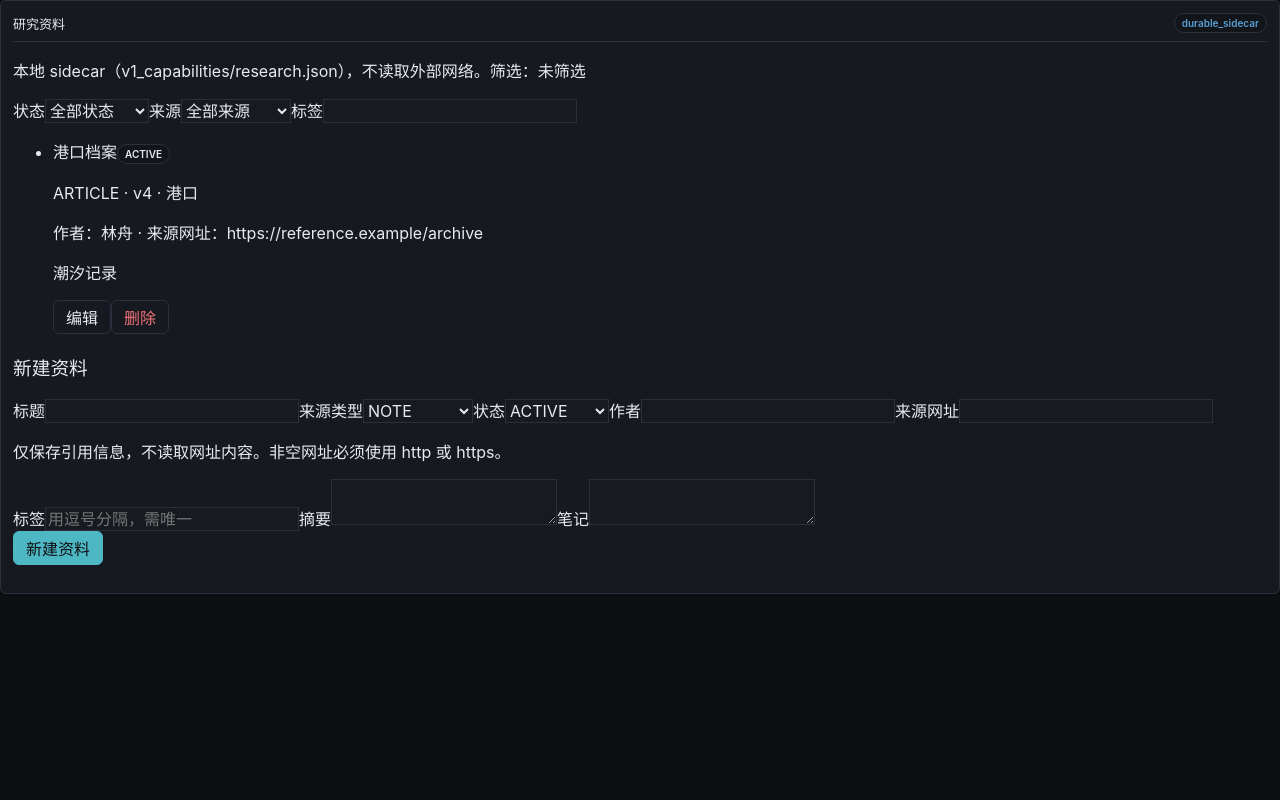
Test: research panel › fills every editable field and saves with the exact novel, record, version and payload
Click the button "编辑" at (82, 317), box [53,300,111,334]
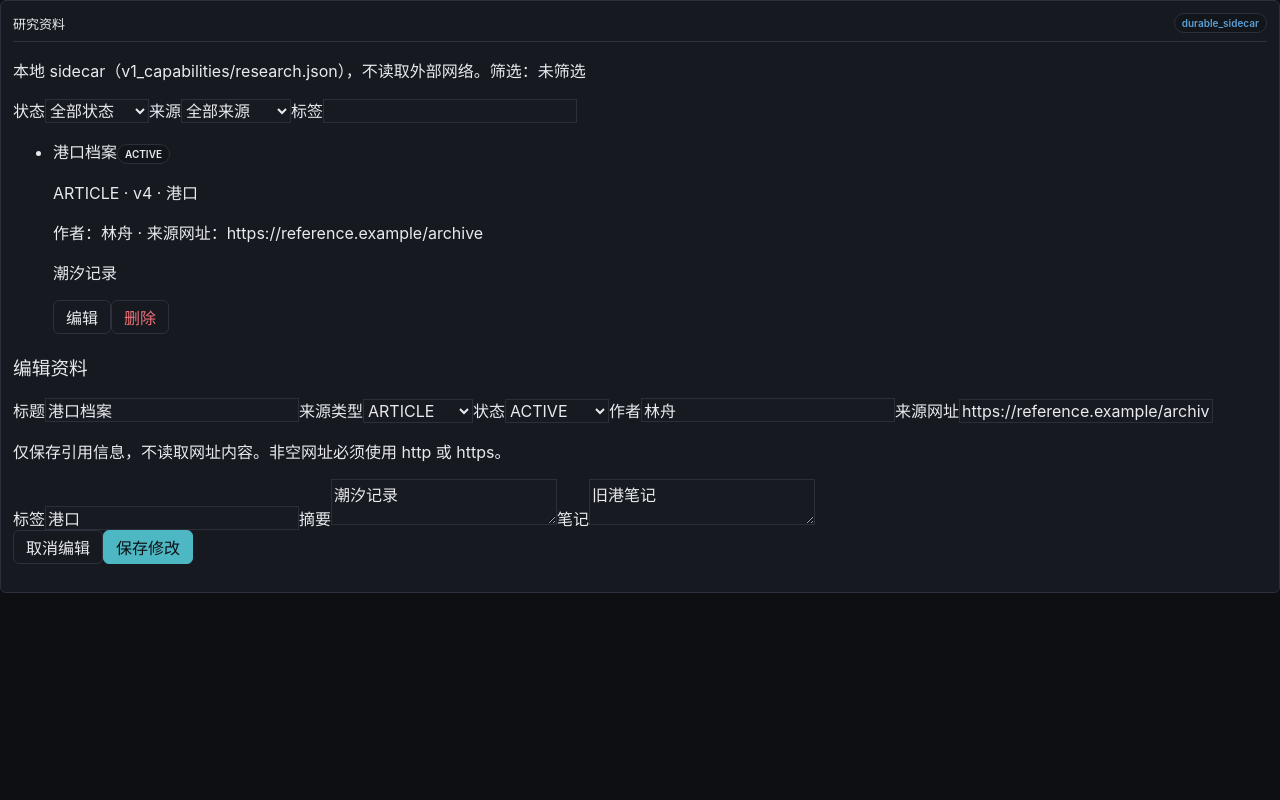
Expected: the text "港口档案" is shown, [53,142,117,162]
Expected: the text "https://reference.example/archive" is shown, [227,223,483,243]
Replace the text in the field labelled "标题" with "修订档案" at (172, 410), box [45,398,299,422]
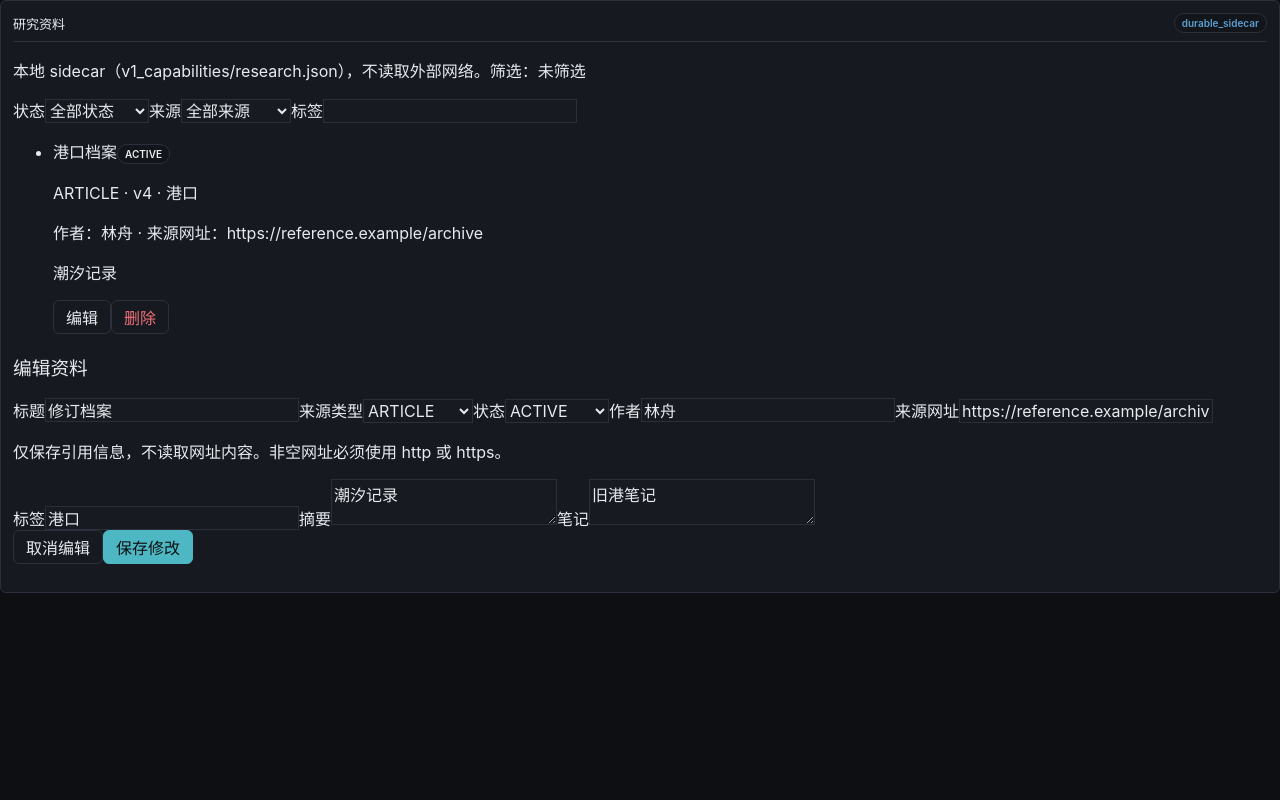
Replace the text in the field labelled "作者" with "新作者" at (768, 410), box [641,398,895,422]
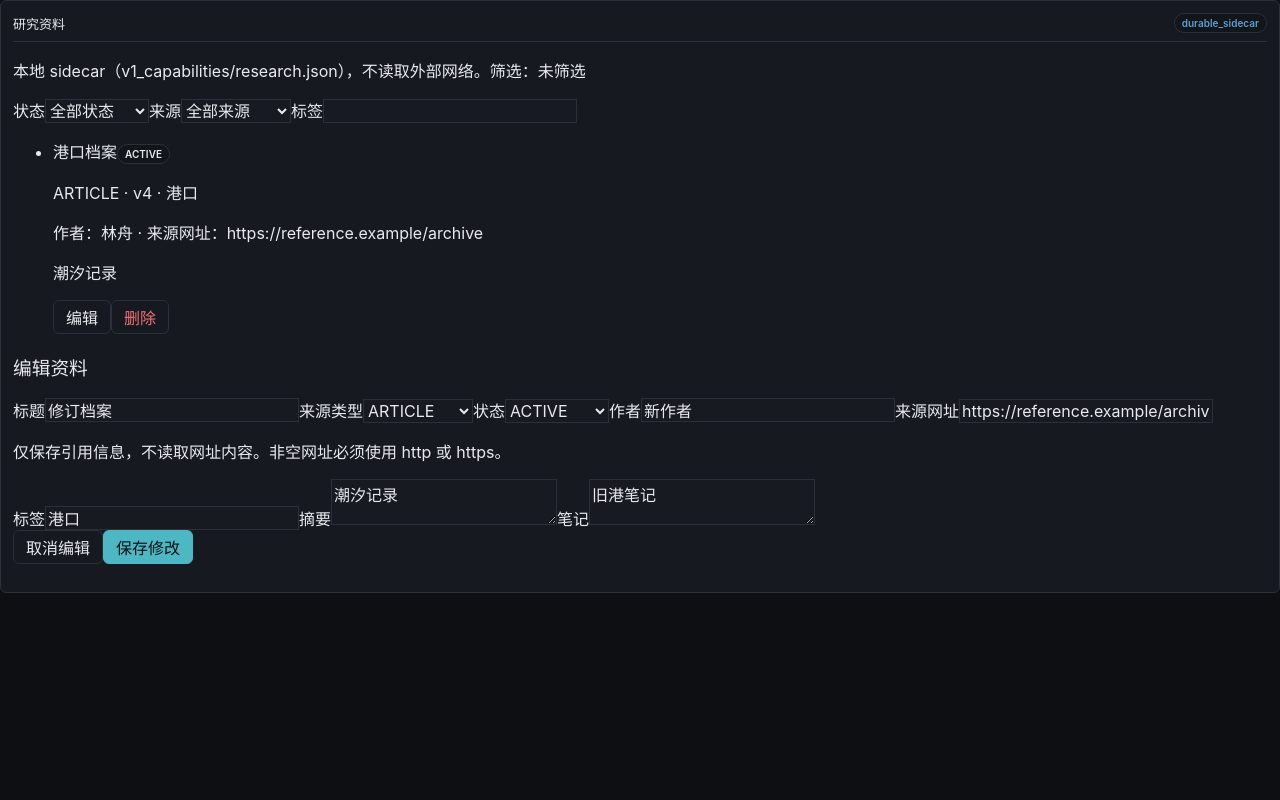
Replace the text in the field labelled "来源网址" with "http://source.example/revised" at (1086, 411), box [959,399,1213,423]
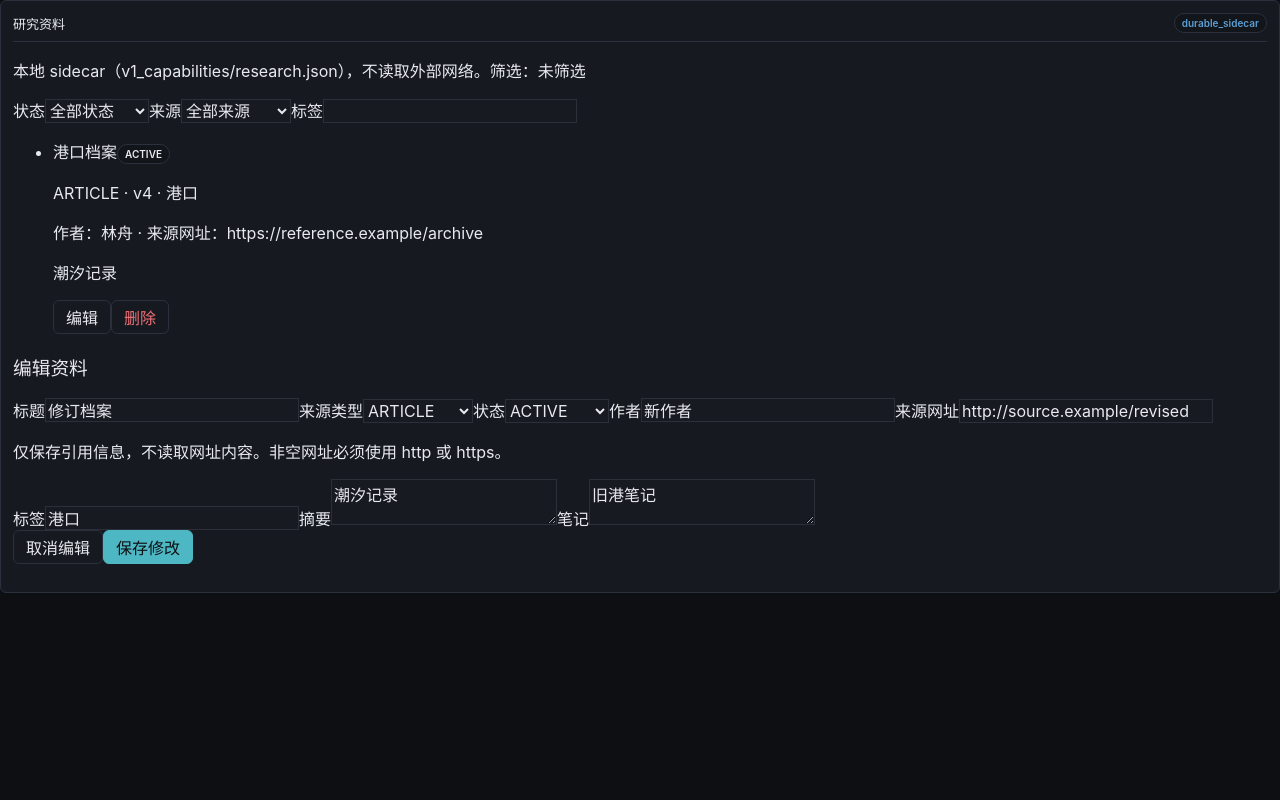
Click the button "保存修改" at (148, 547), box [103,530,193,564]
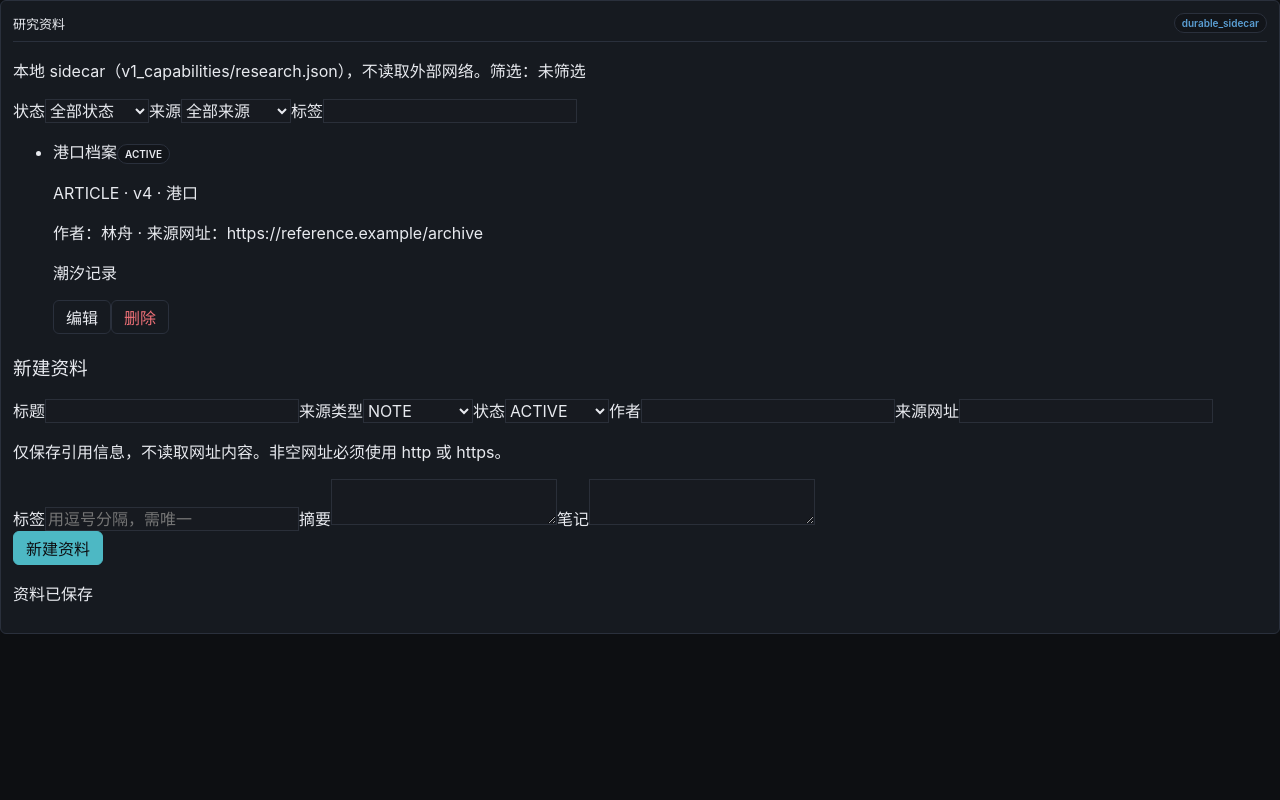
Expected: the heading "新建资料" is shown, [13,357,88,380]
